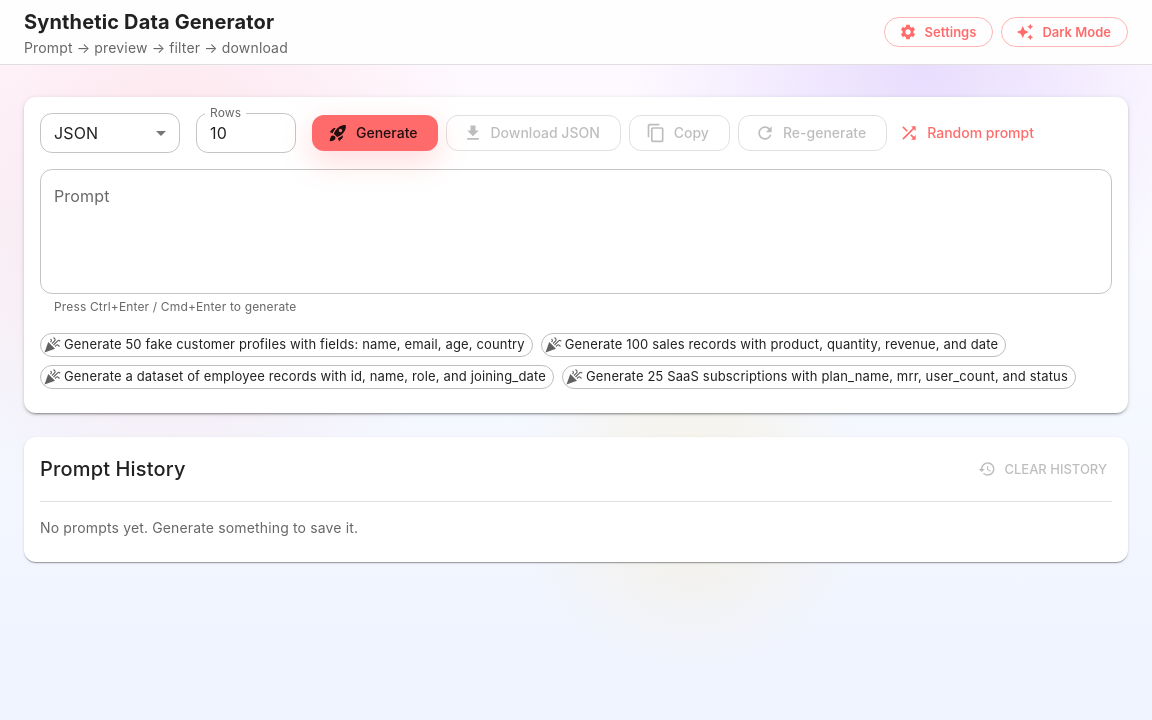
Test case: App › clicking a sample prompt fills the text field
Click the button "Generate 50 fake customer profiles with fields: name, email, age, country". click: click(286, 345)
box: [40, 333, 533, 357]
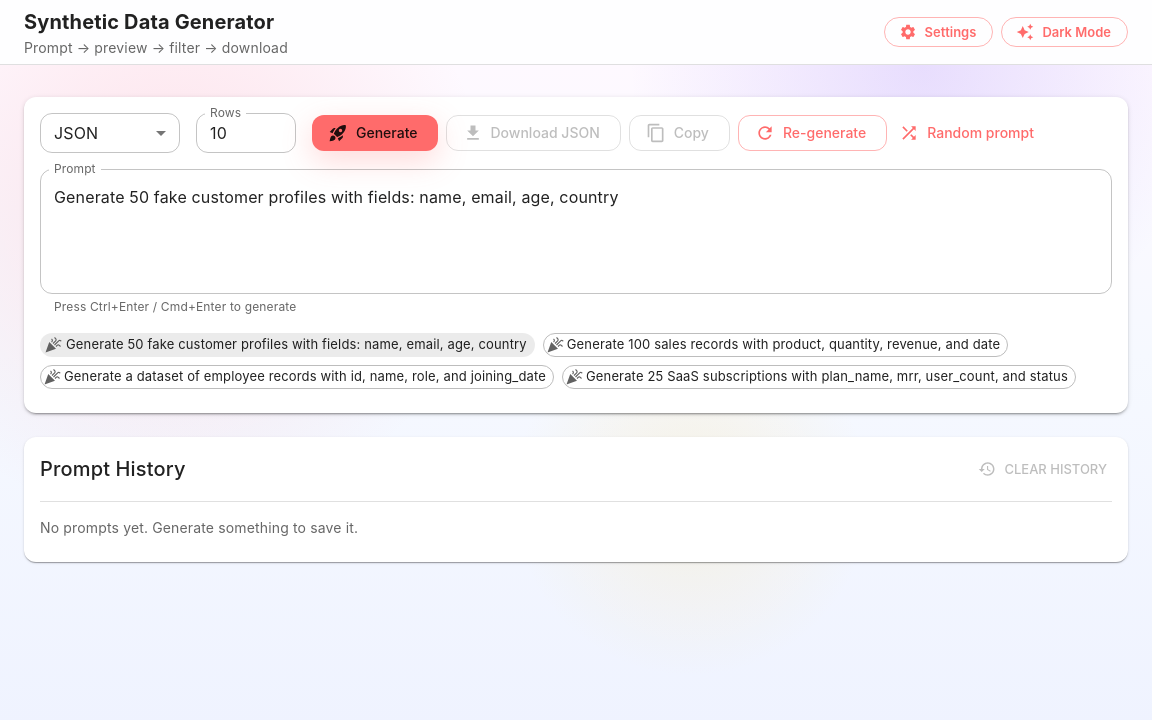
Now the text box labelled "Prompt" holds "Generate 50 fake customer profiles with fields: name, email, age, country", box [54, 186, 1098, 278]
